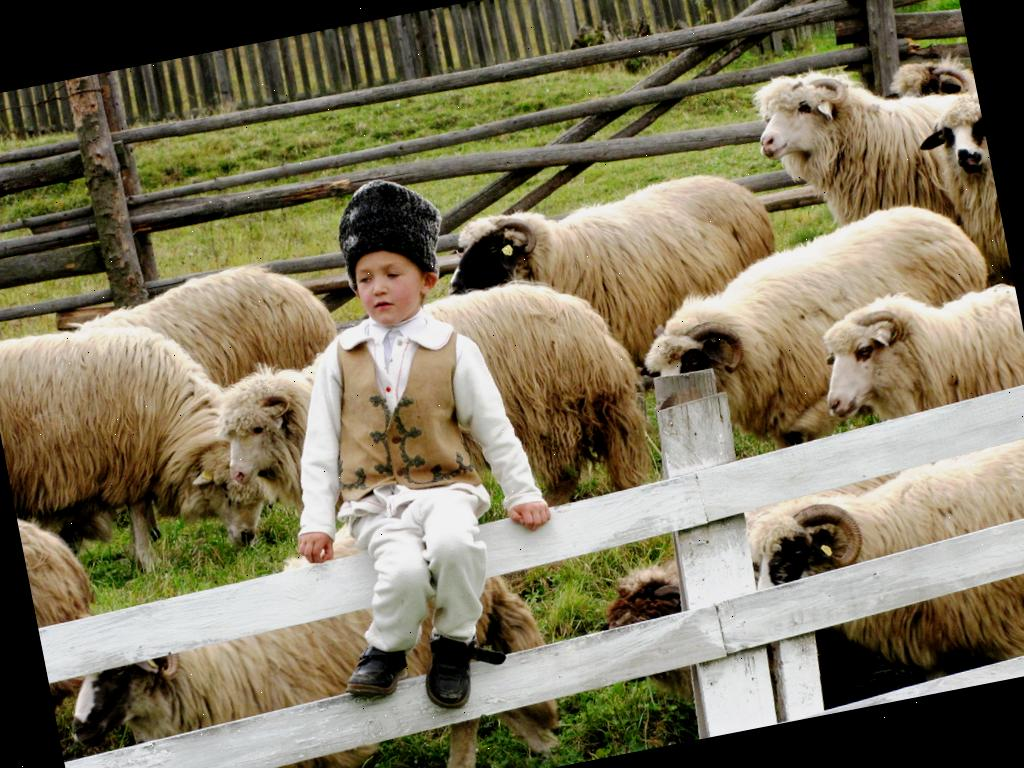Sheep: (208, 268, 660, 565), (53, 529, 581, 768), (615, 200, 1016, 458), (0, 287, 280, 591), (437, 146, 791, 386), (735, 428, 1024, 704), (26, 255, 350, 446), (738, 34, 1002, 268), (802, 274, 1024, 450), (916, 92, 1010, 277), (884, 46, 984, 143)
